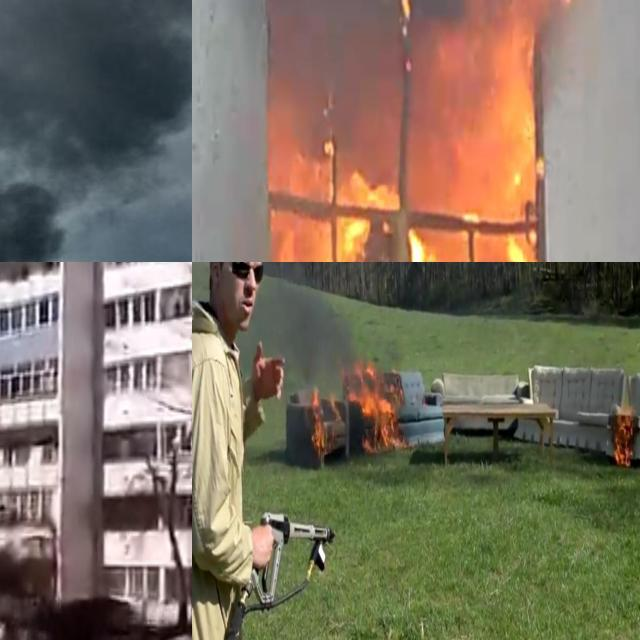fire: (264, 0, 553, 262), (311, 362, 408, 458), (612, 408, 635, 466)
smoke: (0, 0, 192, 262), (254, 262, 361, 393)
